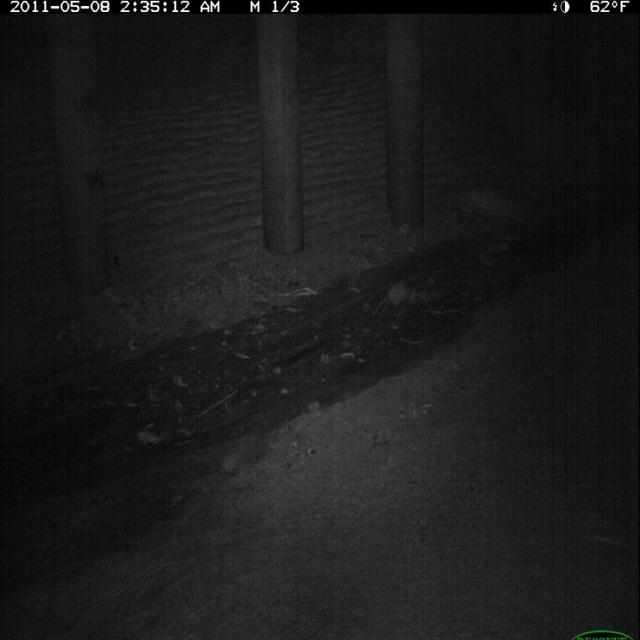opossum: (374, 276, 414, 315)
